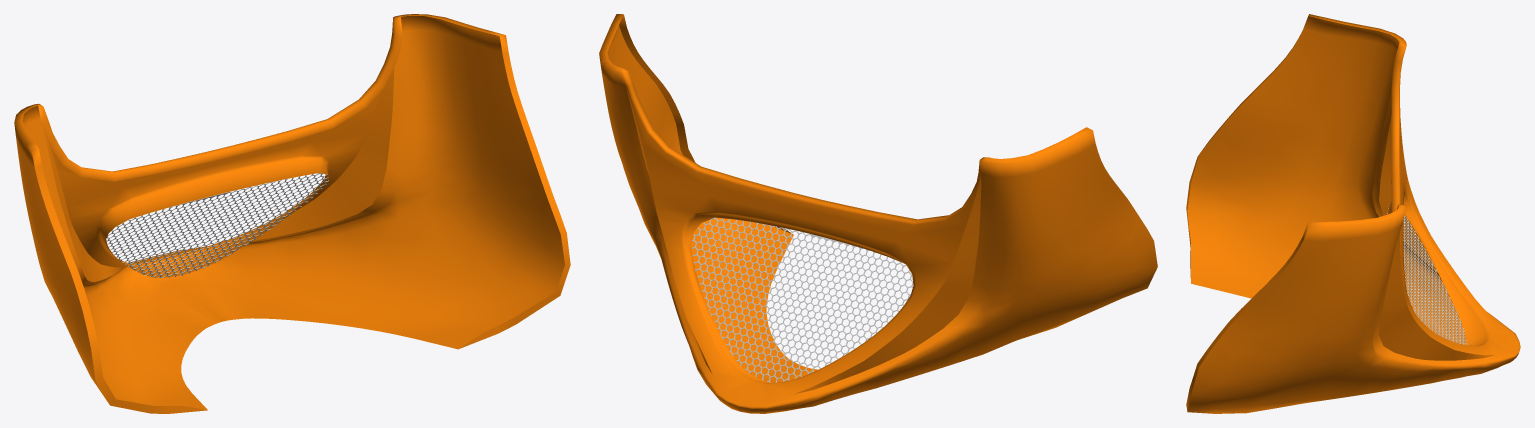
The model's file is Chin_MEANY_MESH_COLORMATCH_OCT_CHR.glb.
3 views of the same model, side by side, from view 1: azimuth 30°, elevation 25°; view 2: azimuth 150°, elevation 25°; view 3: azimuth 270°, elevation 25° (orthographic). The views are drawn at different scales.
Parts seen in each view (by area): view 1: Chin_MEANY_MESH_OCT_BLK, MESH_OCT_CHR; view 2: Chin_MEANY_MESH_OCT_BLK, MESH_OCT_CHR; view 3: Chin_MEANY_MESH_OCT_BLK, MESH_OCT_CHR.
Part boxes in pixels (x1=…): Chin_MEANY_MESH_OCT_BLK: x1=14, y1=14, x2=570, y2=413; MESH_OCT_CHR: x1=107, y1=173, x2=328, y2=277; Chin_MEANY_MESH_OCT_BLK: x1=599, y1=14, x2=1157, y2=413; MESH_OCT_CHR: x1=692, y1=217, x2=913, y2=382; Chin_MEANY_MESH_OCT_BLK: x1=1186, y1=14, x2=1520, y2=413; MESH_OCT_CHR: x1=1387, y1=203, x2=1467, y2=344.
Size of the model in its own units: 0.3384 by 0.1785 by 0.2248.
